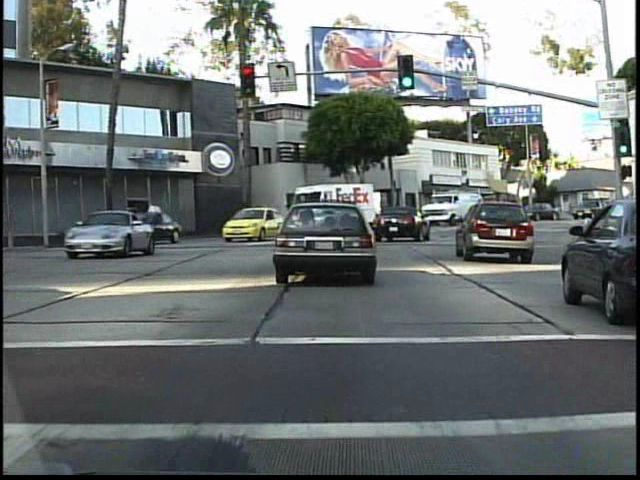person: (249, 201, 266, 232)
